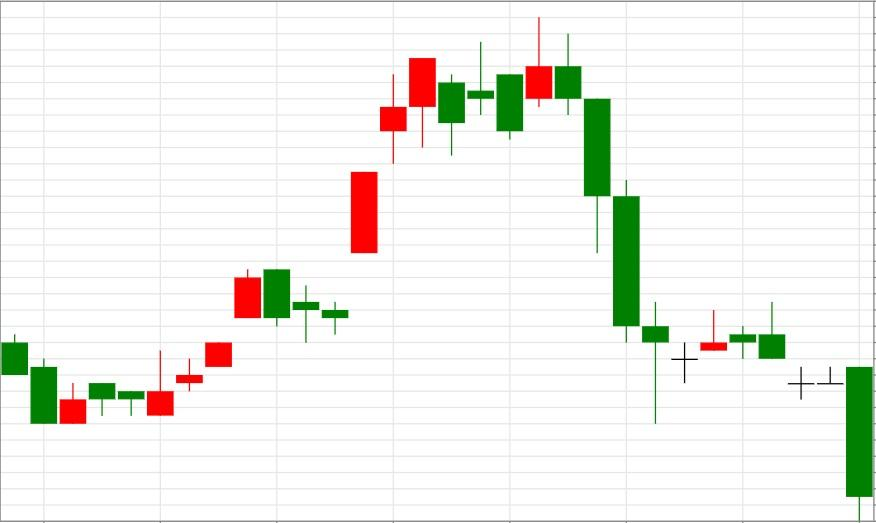three_black_crows_fall: (320, 17, 641, 342)
three_white_soldiers_rise: (87, 341, 233, 417)
